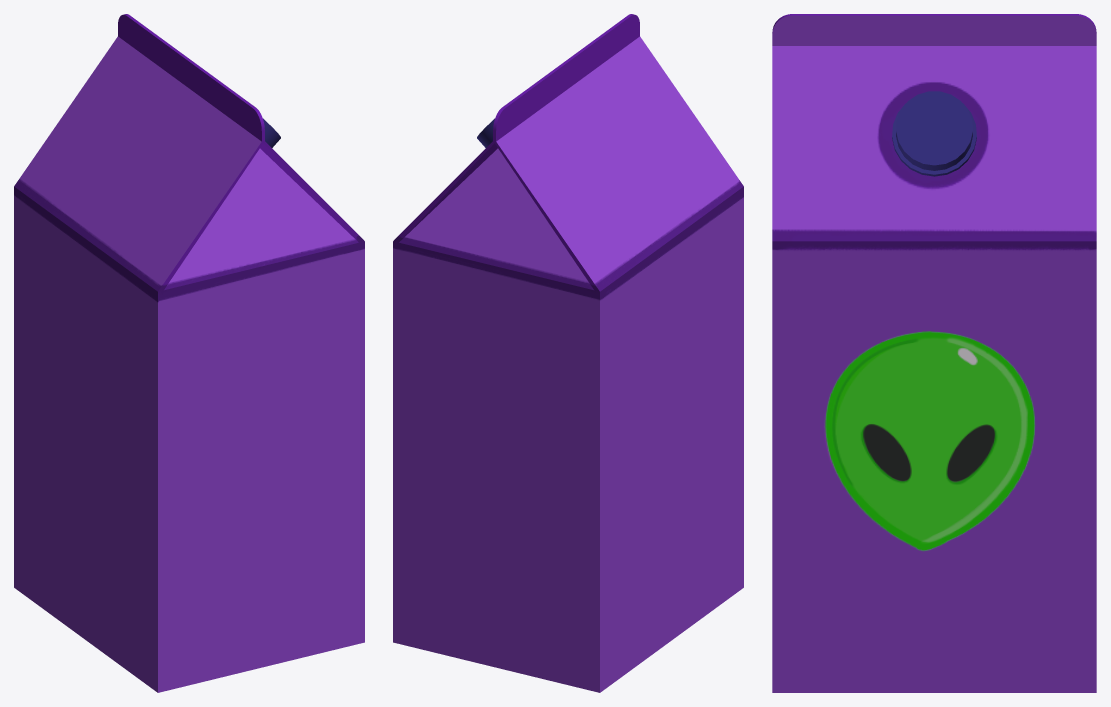
The model's file is Food_AlienMilk.fbx.
3 renders of one model, left to right at view 1: azimuth 30°, elevation 25°; view 2: azimuth 150°, elevation 25°; view 3: azimuth 270°, elevation 25°, orthographic. The views are drawn at different scales.
Visible parts, largest first — view 1: polySurface1; view 2: polySurface1; view 3: polySurface1.
Boxes of the visible parts, x1,y1,x2,y2 form: polySurface1: (14,14,364,692); polySurface1: (393,14,743,692); polySurface1: (772,14,1096,692).
Bounding box in the file's own units: 9.8 × 25.02 × 11.81.
Materials: 1 (1 with a texture image).
